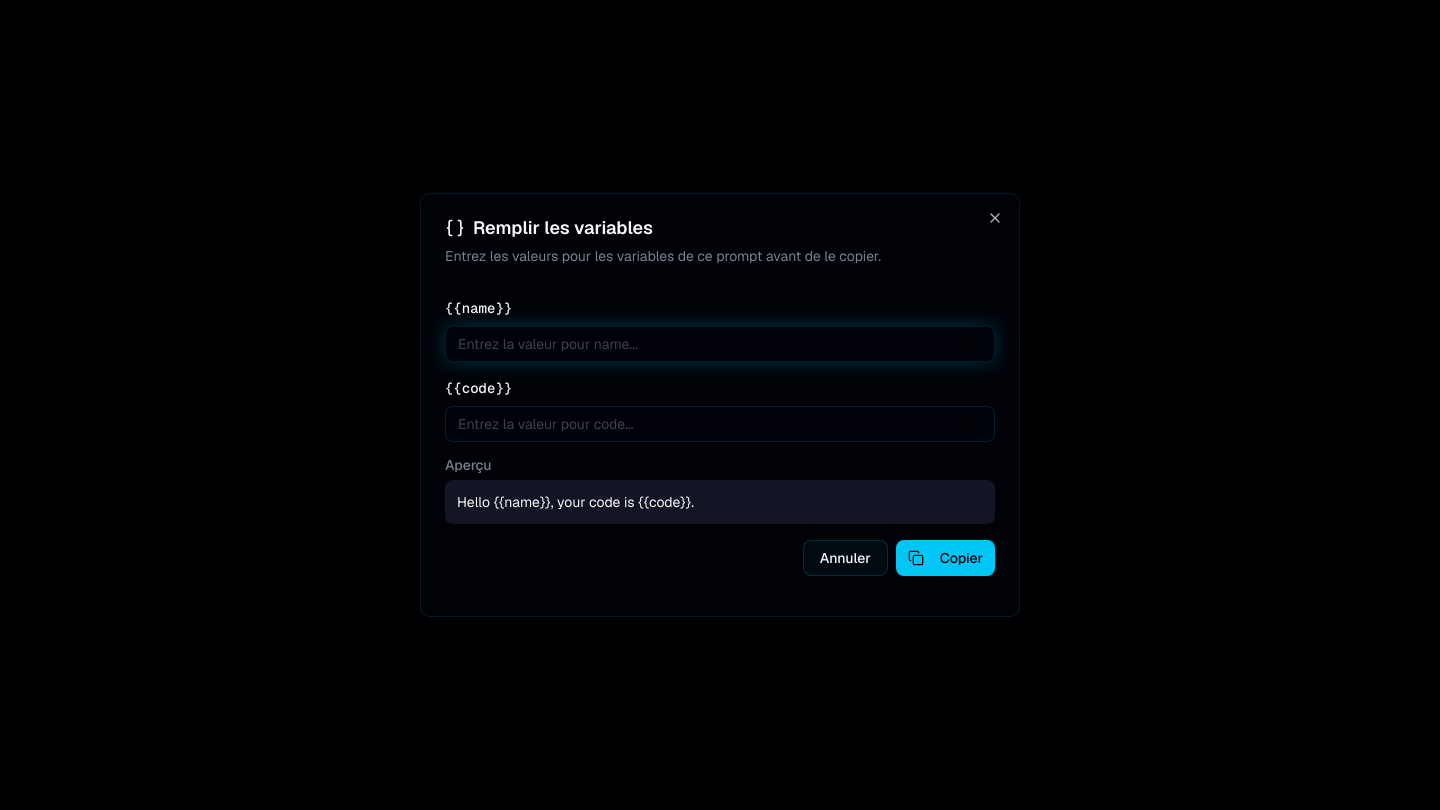
Test: VariableDialog › should update preview when typing values
Type "Alice" into the field with placeholder "Entrez la valeur pour name..." at [720, 344], box [445,326,995,362]
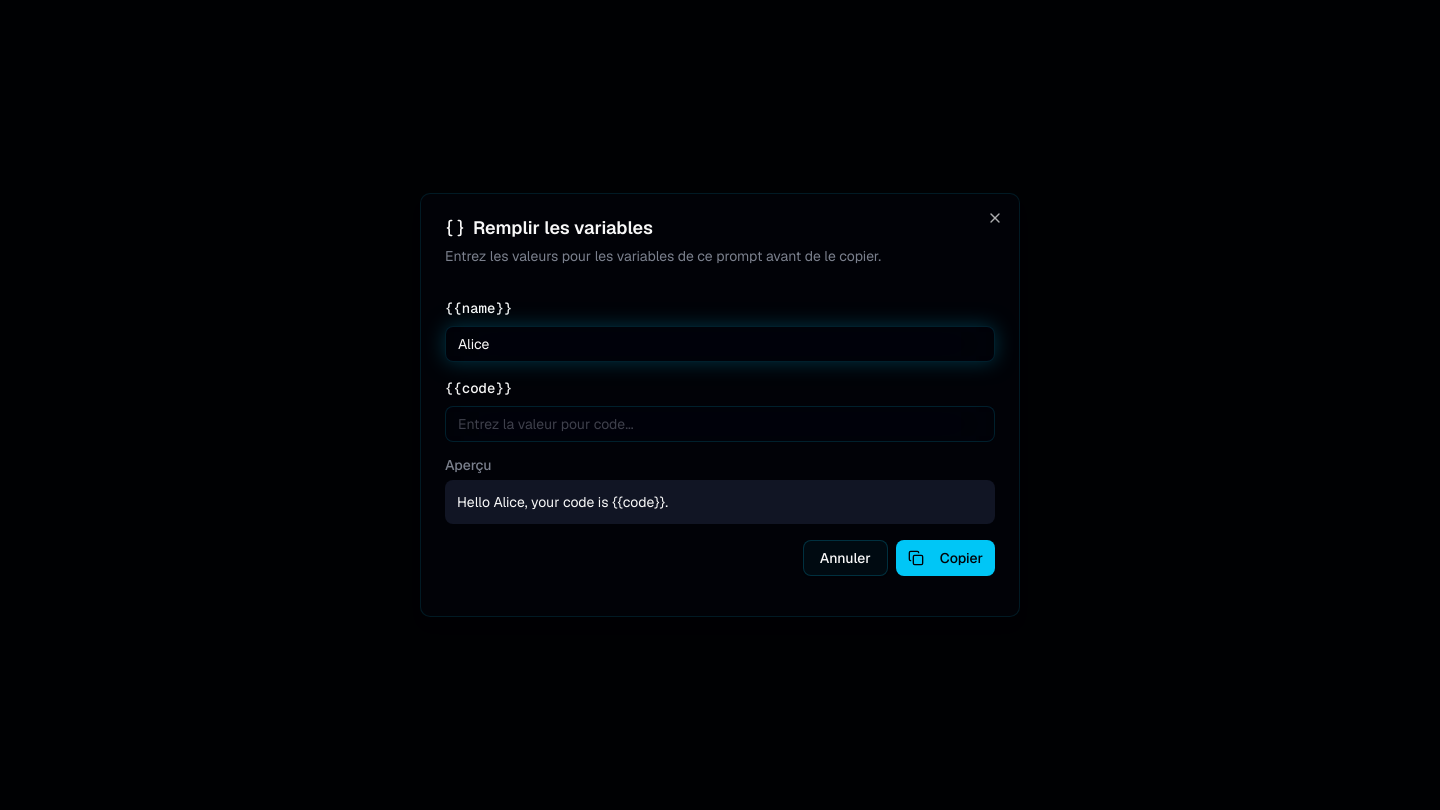
Expected: the text "Hello Alice, your code is {{code}}." is shown, [445,480,995,524]
